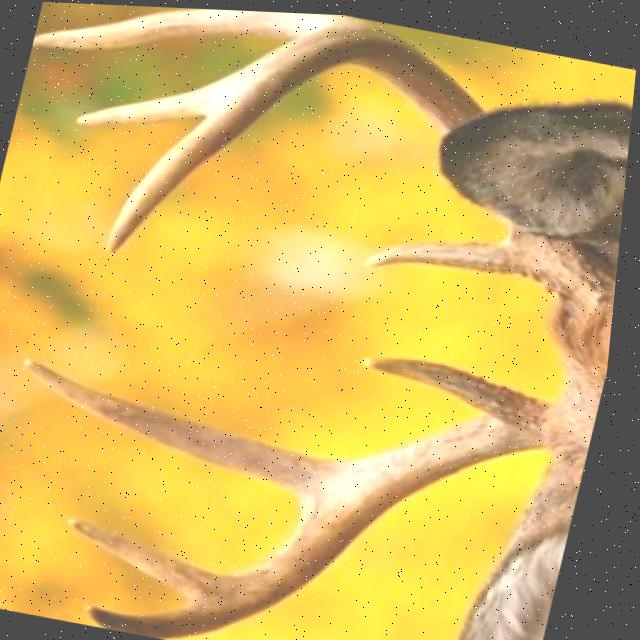L-G1: (367, 235, 527, 272)
L-G2: (32, 7, 363, 49)
L-G3: (76, 80, 216, 127)
R-F: (95, 394, 564, 638)
R-G1: (368, 353, 537, 414)
R-G2: (29, 356, 333, 492)
R-G3: (76, 515, 238, 597)
